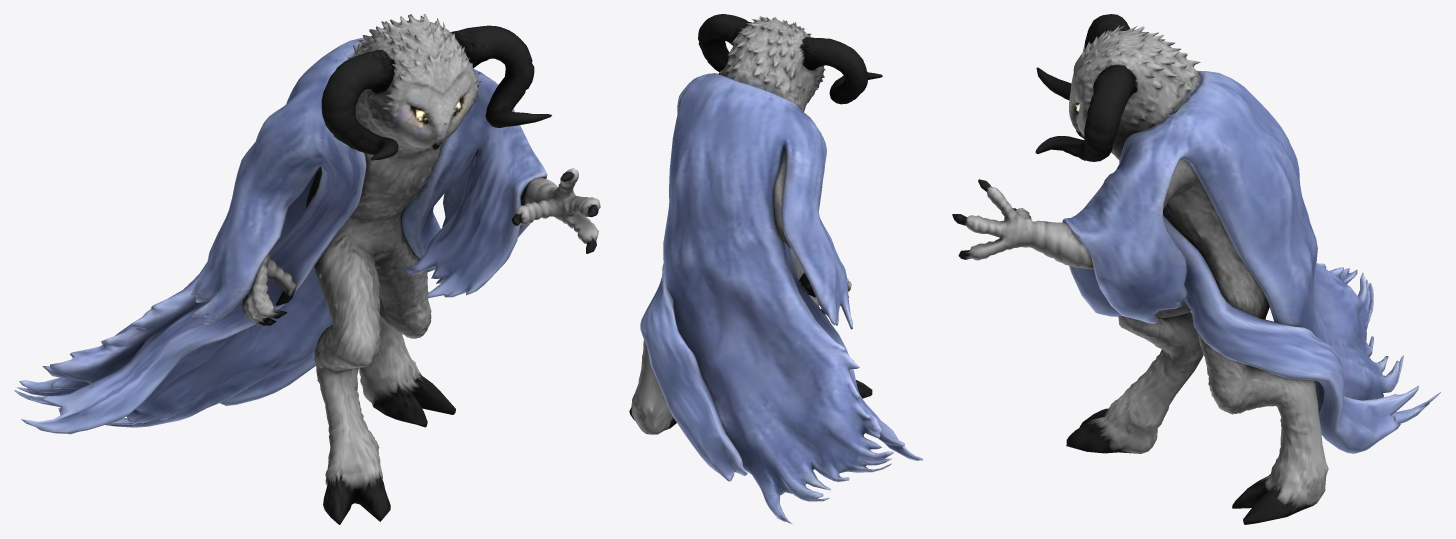
The model's file is MZ4250 - Auril_1st_alt.glb.
The picture shows the model from 3 angles, left to right: view 1: azimuth 30°, elevation 25°; view 2: azimuth 150°, elevation 25°; view 3: azimuth 270°, elevation 25°; orthographic projection. The views are drawn at different scales.
Visible parts, largest first — view 1: ORGANIC BASE SPHERE.001; view 2: ORGANIC BASE SPHERE.001; view 3: ORGANIC BASE SPHERE.001.
Part boxes in pixels (x1=…): ORGANIC BASE SPHERE.001: x1=14, y1=14, x2=600, y2=524; ORGANIC BASE SPHERE.001: x1=629, y1=14, x2=923, y2=524; ORGANIC BASE SPHERE.001: x1=952, y1=14, x2=1440, y2=524.
Bounding box in the file's own units: 76.58 × 84.94 × 82.4.
Materials: 1 (1 with a texture image).
